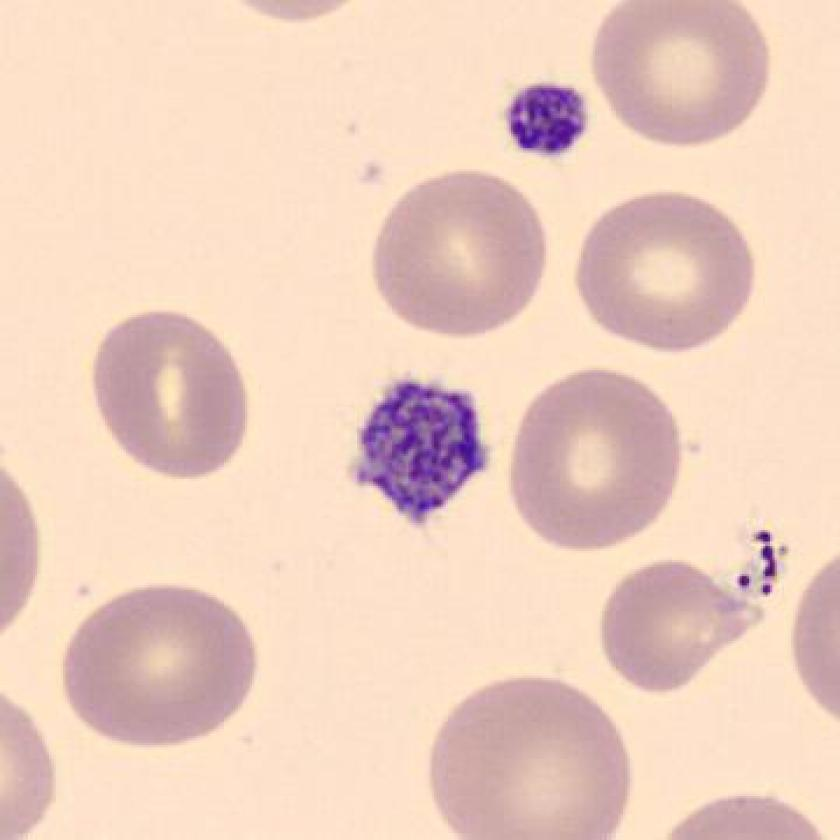platelets: (347, 373, 501, 531), (501, 77, 599, 170)
